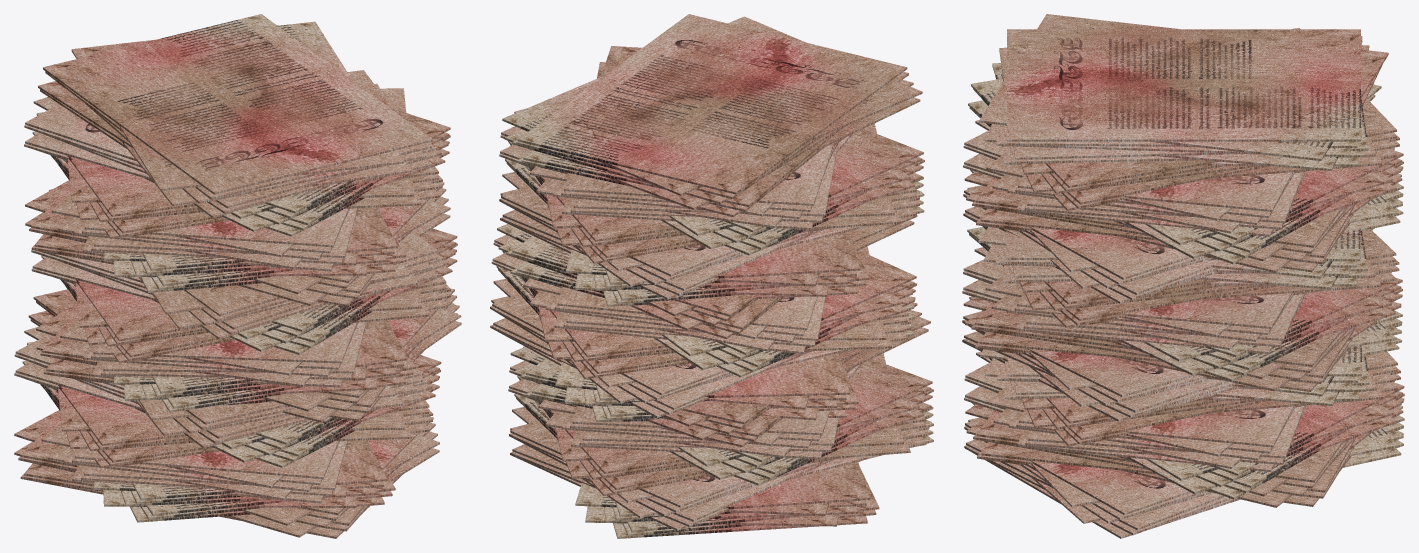
Rendered from newspapers.fbx.
The picture shows the model from 3 angles, left to right: view 1: azimuth 30°, elevation 25°; view 2: azimuth 150°, elevation 25°; view 3: azimuth 270°, elevation 25°; orthographic projection. The views are drawn at different scales.
Visible parts, largest first — view 1: newspapers; view 2: newspapers; view 3: newspapers.
Boxes of the visible parts, x1,y1,x2,y2 form: newspapers: [14, 14, 461, 538]; newspapers: [490, 14, 933, 538]; newspapers: [962, 14, 1404, 538].
Size of the model in its own units: 0.6303 by 0.5579 by 0.6042.
